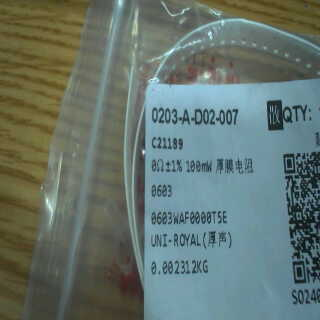0R: (151, 157, 213, 197)
